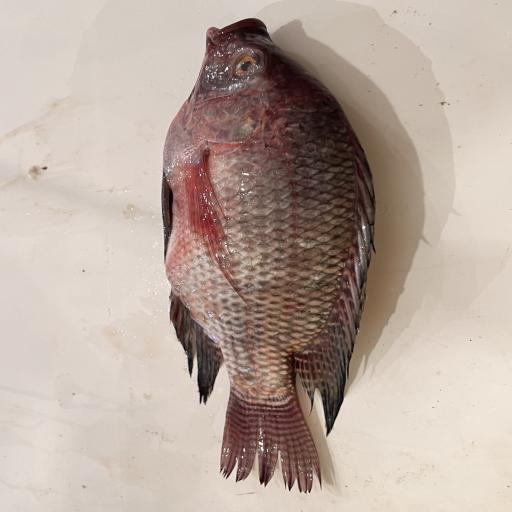Tilapia: (161, 18, 377, 495)
